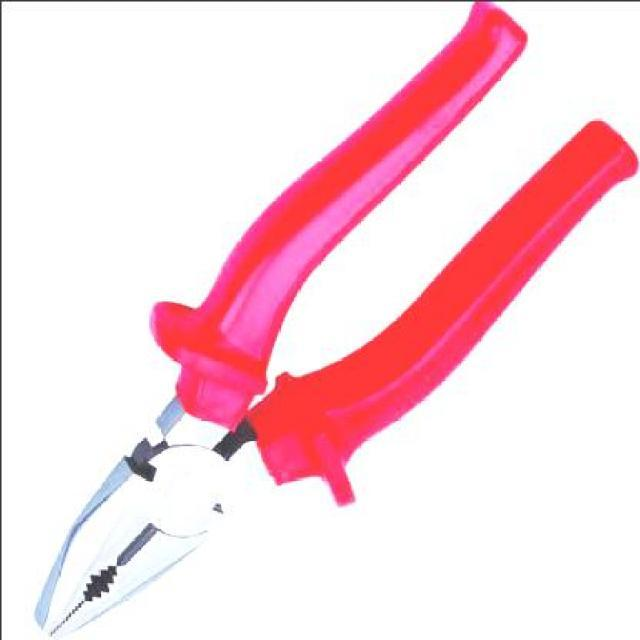pliers: (33, 0, 639, 638)
